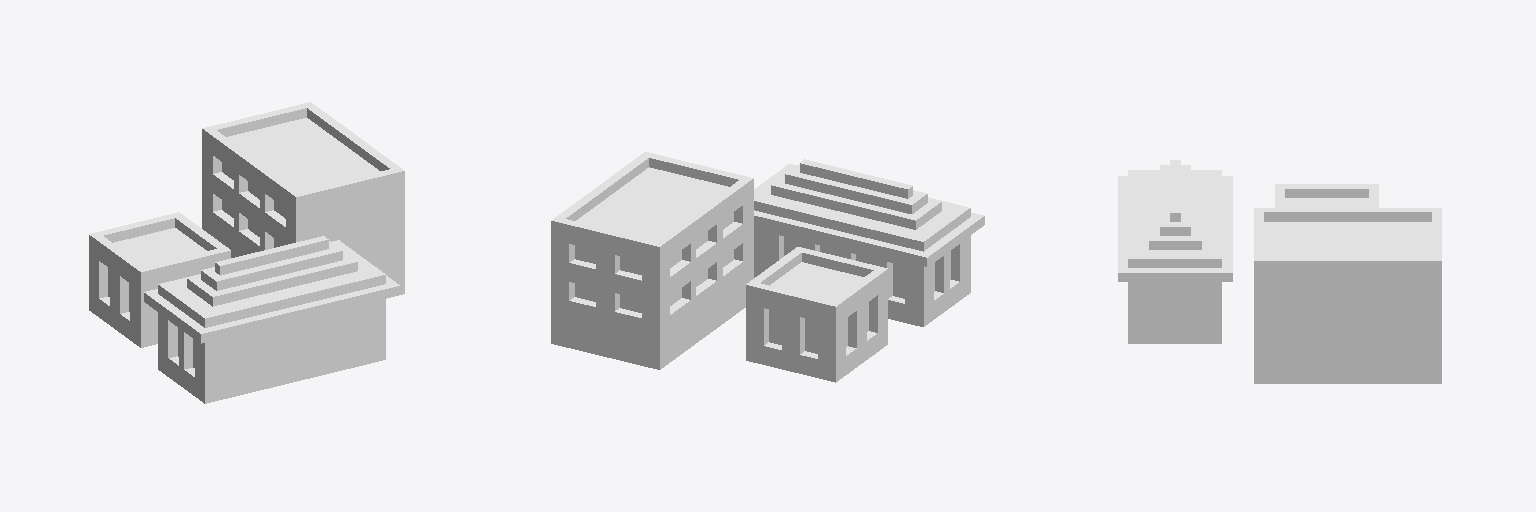
Rendered from workshop_3dprinters.obj.
3 views of the same model, side by side, from view 1: azimuth 30°, elevation 25°; view 2: azimuth 150°, elevation 25°; view 3: azimuth 270°, elevation 25° (orthographic).
Parts seen in each view (by area): view 1: object 1; view 2: object 1; view 3: object 1.
Boxes of the visible parts, <box> form: object 1: <box>89,102,404,403</box>; object 1: <box>551,152,984,382</box>; object 1: <box>1118,160,1441,383</box>.
Size of the model in its own units: 3 by 1.3 by 3.1.